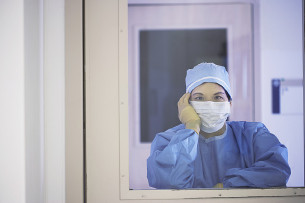face_mask: (188, 83, 229, 133)
